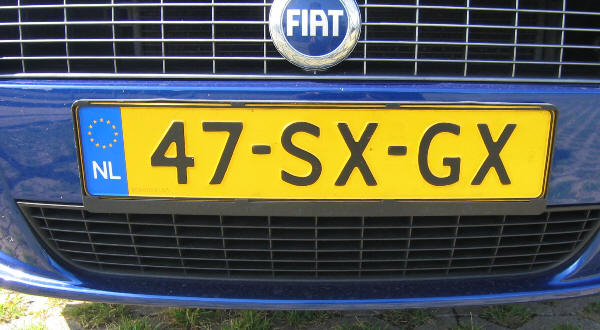license_plate: (73, 101, 555, 204)
